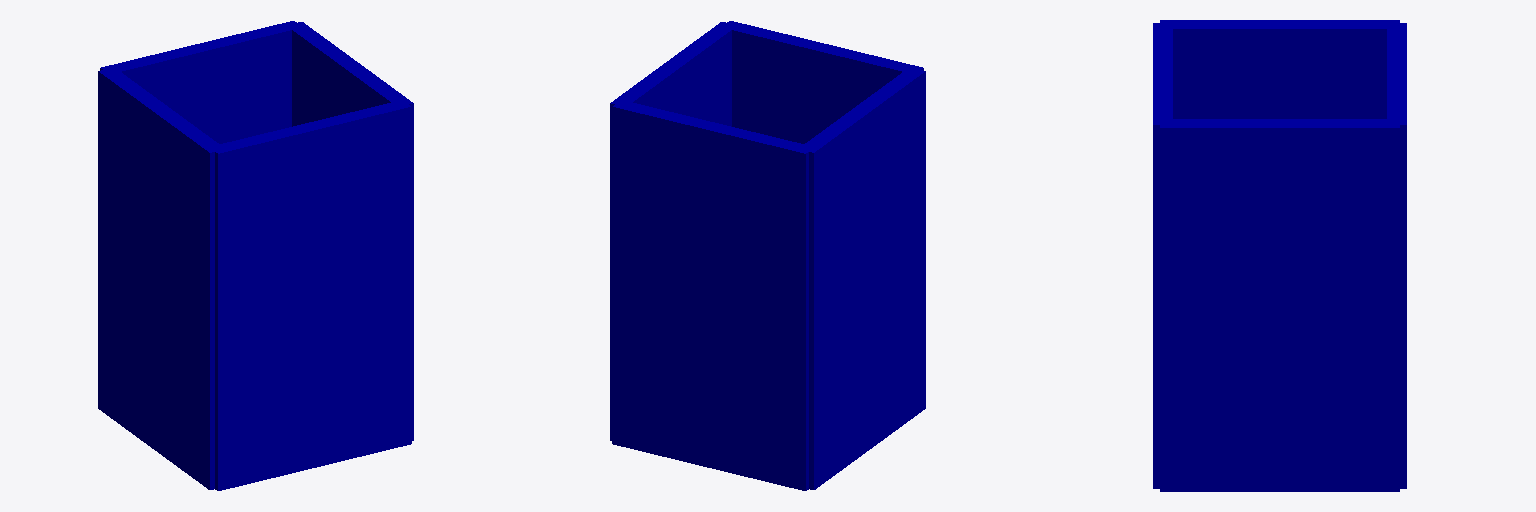
The robot description file, URDF, robot "blue_box.urdf":
<?xml version="1.0"?>
<robot name="blue_box.urdf">
  <material name="blue">
    <color rgba="0 0 0.7 1"/>
  </material>
  <link name="bottom">
    <visual>
      <origin xyz="0 0 -0.2"/>
      <geometry>
        <box size="0.3 0.3 0.1"/>
      </geometry>
      <material name="blue"/>
    </visual>
    <collision>
      <origin xyz="0 0 -0.15"/>
      <geometry>
        <box size="0.3 0.3 0.1"/>
      </geometry>
    </collision>
    <inertial>
      <mass value="0.2"/>
      <inertia ixx="1.0" iyy="1.0" izz="1.0" ixy="0" ixz="0" iyz="0"/>
    </inertial>
  </link>
  <link name="edge_nx">
    <visual>
      <geometry>
        <box size="0.025 0.3 0.5"/>
      </geometry>
      <material name="blue"/>
    </visual>
    <collision>
      <geometry>
        <box size="0.025 0.3 0.5"/>
      </geometry>
    </collision>
    <inertial>
      <mass value="0.2"/>
      <inertia ixx="1.0" iyy="1.0" izz="1.0" ixy="0" ixz="0" iyz="0"/>
    </inertial>
  </link>
  <link name="edge_px">
    <visual>
      <geometry>
        <box size="0.025 0.3 0.5"/>
      </geometry>
      <material name="blue"/>
    </visual>
    <collision>
      <geometry>
        <box size="0.025 0.3 0.5"/>
      </geometry>
    </collision>
    <inertial>
      <mass value="0.2"/>
      <inertia ixx="1.0" iyy="1.0" izz="1.0" ixy="0" ixz="0" iyz="0"/>
    </inertial>
  </link>
  <link name="edge_ny">
    <visual>
      <geometry>
        <box size="0.3 0.025 0.5"/>
      </geometry>
      <material name="blue"/>
    </visual>
    <collision>
      <geometry>
        <box size="0.3 0.025 0.5"/>
      </geometry>
    </collision>
    <inertial>
      <mass value="0.2"/>
      <inertia ixx="1.0" iyy="1.0" izz="1.0" ixy="0" ixz="0" iyz="0"/>
    </inertial>
  </link>
  <link name="edge_py">
    <visual>
      <geometry>
        <box size="0.3 0.025 0.5"/>
      </geometry>
      <material name="blue"/>
    </visual>
    <collision>
      <geometry>
        <box size="0.3 0.025 0.5"/>
      </geometry>
    </collision>
    <inertial>
      <mass value="0.2"/>
      <inertia ixx="1.0" iyy="1.0" izz="1.0" ixy="0" ixz="0" iyz="0"/>
    </inertial>
  </link>

  <joint name="edge_joint_nx" type="fixed">
    <origin xyz="-0.1455 0 0"/>
    <parent link="bottom"/>
    <child link="edge_nx"/>
  </joint>
  <joint name="edge_joint_px" type="fixed">
    <origin xyz="0.1455 0 0"/>
    <parent link="bottom"/>
    <child link="edge_px"/>
  </joint>
  <joint name="edge_joint_ny" type="fixed">
    <origin xyz="0 -0.1455 0"/>
    <parent link="bottom"/>
    <child link="edge_ny"/>
  </joint>
  <joint name="edge_joint_py" type="fixed">
    <origin xyz="0 0.1455 0"/>
    <parent link="bottom"/>
    <child link="edge_py"/>
  </joint>
</robot>

--- Render facts (derived) ---
3 views of the same robot in one strip: view 1: azimuth 30°, elevation 25°; view 2: azimuth 150°, elevation 25°; view 3: azimuth 270°, elevation 25° (orthographic).
Model blue_box.urdf with 5 links and 4 joints (4 fixed), rooted at bottom, posed all joints at 0.
Visible links, largest first — view 1: edge_ny, edge_nx, edge_py, edge_px; view 2: edge_py, edge_nx, edge_ny, edge_px; view 3: edge_px, edge_nx, edge_ny, edge_py.
Boxes of the visible links, left/top/right/bottom form: edge_ny: left=215, top=103, right=411, bottom=490; edge_nx: left=98, top=67, right=224, bottom=489; edge_py: left=100, top=21, right=296, bottom=143; edge_px: left=286, top=22, right=413, bottom=440; edge_py: left=612, top=103, right=808, bottom=490; edge_nx: left=799, top=67, right=925, bottom=489; edge_ny: left=726, top=21, right=923, bottom=143; edge_px: left=610, top=22, right=737, bottom=440; edge_px: left=1160, top=119, right=1399, bottom=491; edge_nx: left=1160, top=20, right=1399, bottom=118; edge_ny: left=1153, top=23, right=1172, bottom=488; edge_py: left=1387, top=23, right=1406, bottom=488.
Bounding box of the posed robot: 0.316 × 0.316 × 0.5 m (x, y, z).
Geometry: primitives only (box / cylinder / sphere), no mesh files.
